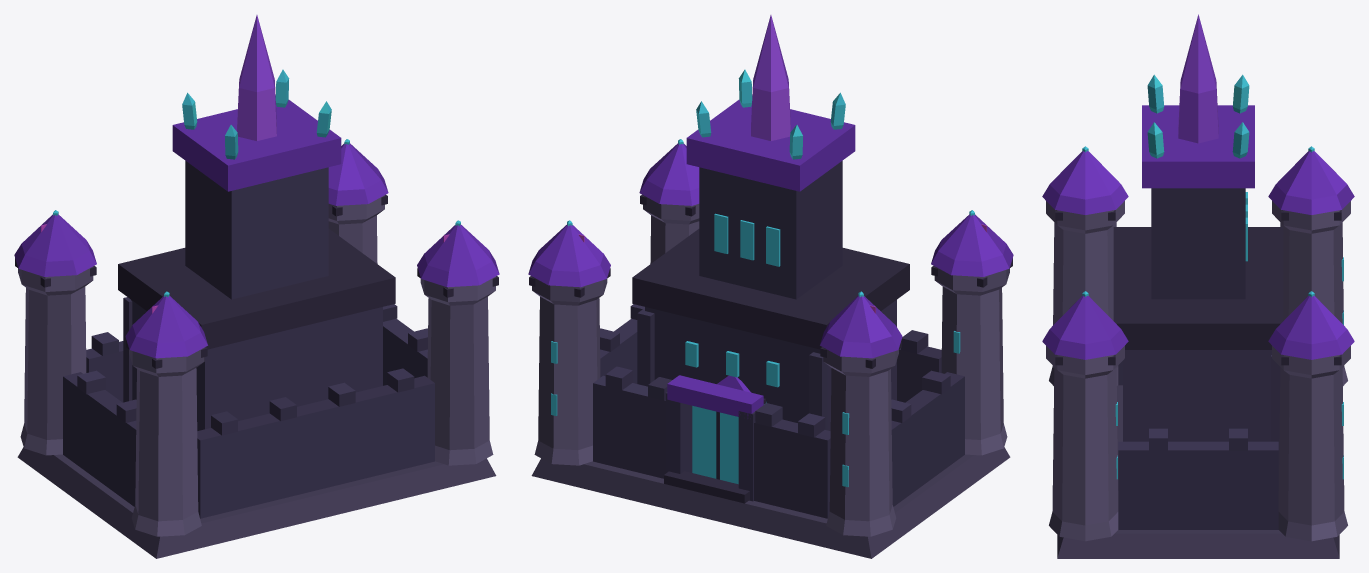
File: Decor_VoidPortal_Citadel.fbx
3 renders of one model, left to right at view 1: azimuth 30°, elevation 25°; view 2: azimuth 150°, elevation 25°; view 3: azimuth 270°, elevation 25°, orthographic.
Visible parts, largest first — view 1: Citadel_Body; view 2: Citadel_Body; view 3: Citadel_Body.
Boxes of the visible parts, x1,y1,x2,y2 form: Citadel_Body: (14,15,499,558); Citadel_Body: (528,15,1013,558); Citadel_Body: (1042,14,1354,558).
Size of the model in its own units: 44 by 52 by 32.
